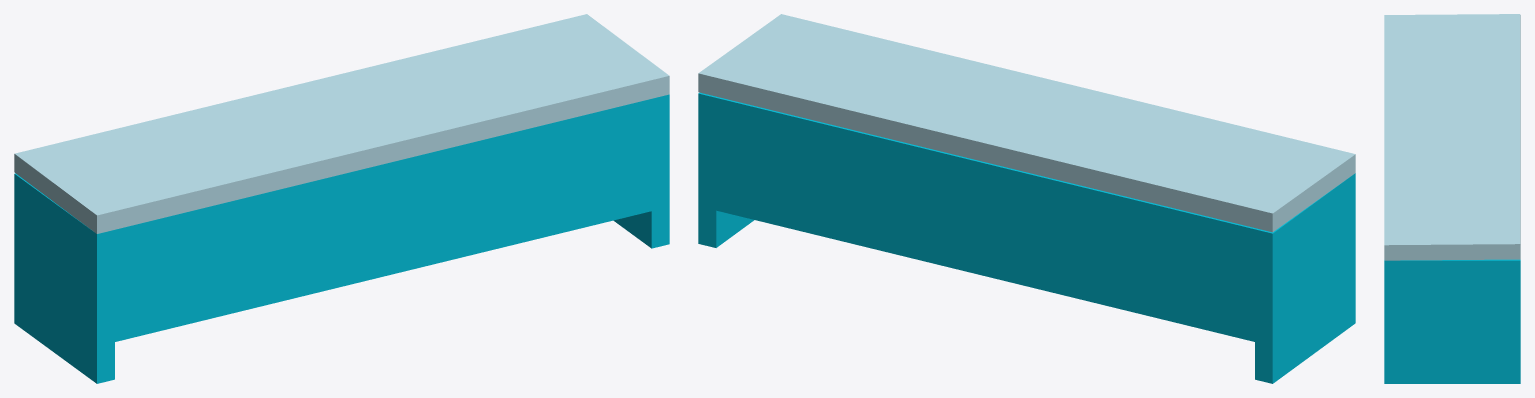
The model's file is Storage Bench.glb.
3 renders of one model, left to right at view 1: azimuth 30°, elevation 25°; view 2: azimuth 150°, elevation 25°; view 3: azimuth 270°, elevation 25°, orthographic. The views are drawn at different scales.
Visible parts, largest first — view 1: Top, Wall 2, Leg 1, Bottom, Leg 2; view 2: Top, Wall 1, Leg 1, Bottom, Leg 2; view 3: Top, Leg 2.
Boxes of the visible parts, box(x1,y1,x2,y2) form: Top: box(14, 14, 669, 233); Wall 2: box(115, 99, 651, 340); Leg 1: box(14, 173, 114, 383); Bottom: box(115, 192, 651, 341); Leg 2: box(613, 94, 669, 248); Top: box(698, 14, 1355, 232); Wall 1: box(716, 97, 1255, 341); Leg 1: box(1255, 173, 1355, 383); Bottom: box(716, 192, 1254, 341); Leg 2: box(698, 92, 754, 247); Top: box(1384, 14, 1520, 260); Leg 2: box(1384, 259, 1520, 383).
Bounding box in the file's own units: 102 × 28.8 × 25.43.
